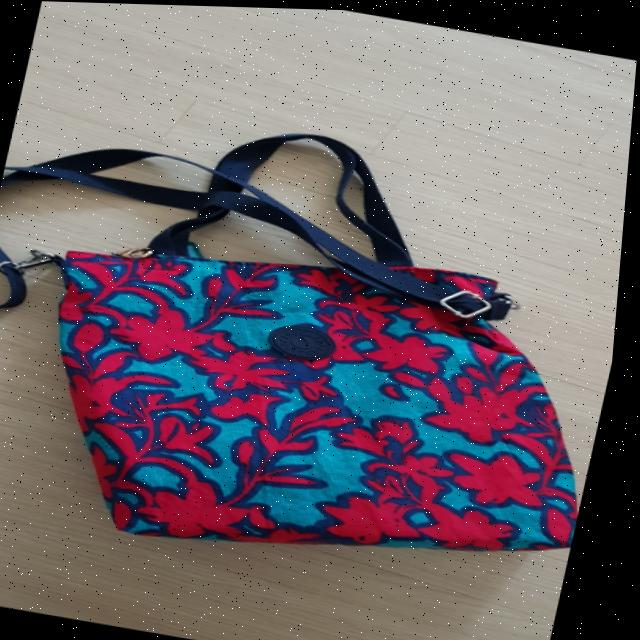ecobag: (0, 86, 634, 616)
